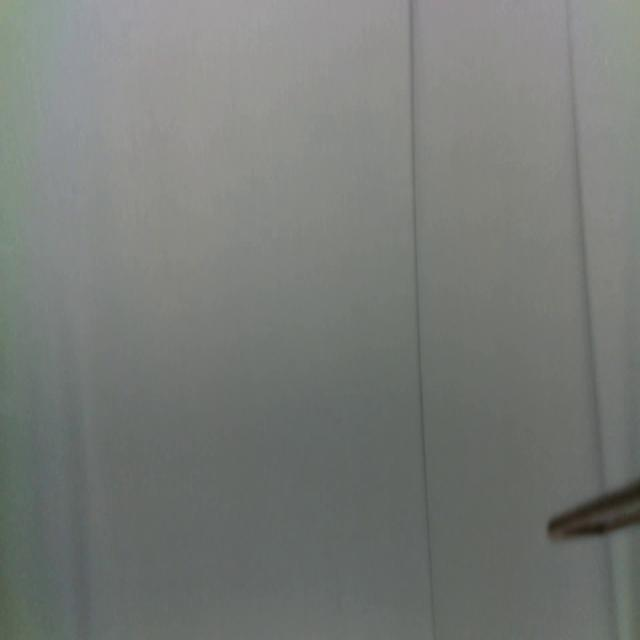crease: (564, 0, 605, 491), (407, 0, 438, 638)
